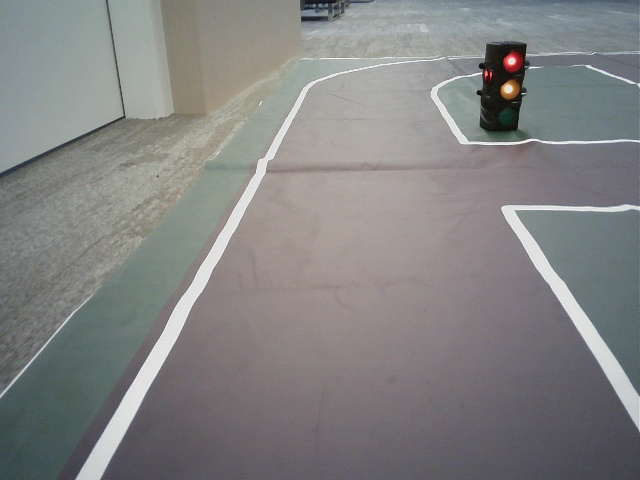red: (493, 44, 520, 130)
